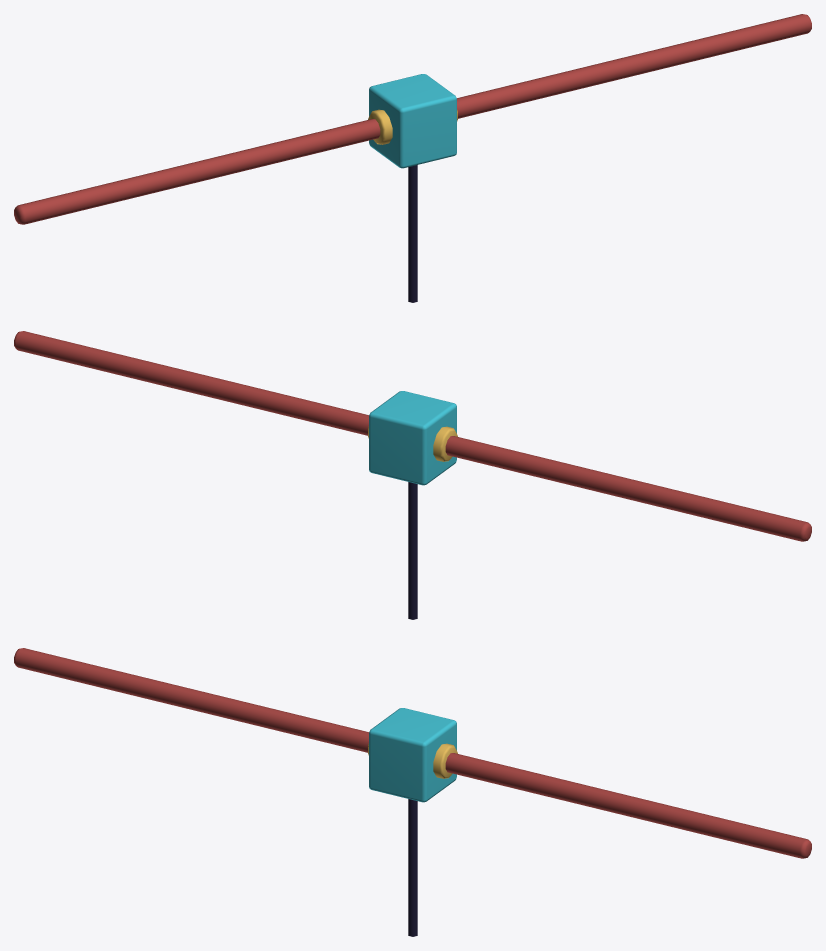
Rendered from Obstacle_02.fbx.
3 views of the same model, one above another, from view 1: azimuth 30°, elevation 25°; view 2: azimuth 150°, elevation 25°; view 3: azimuth 330°, elevation 25° (orthographic).
Parts seen in each view (by area): view 1: Obstacle_02; view 2: Obstacle_02; view 3: Obstacle_02.
Boxes of the visible parts, x1=… form: Obstacle_02: x1=14, y1=14, x2=811, y2=302; Obstacle_02: x1=14, y1=331, x2=811, y2=619; Obstacle_02: x1=14, y1=648, x2=811, y2=936.
Bounding box in the file's own units: 1526 × 387 × 112.
